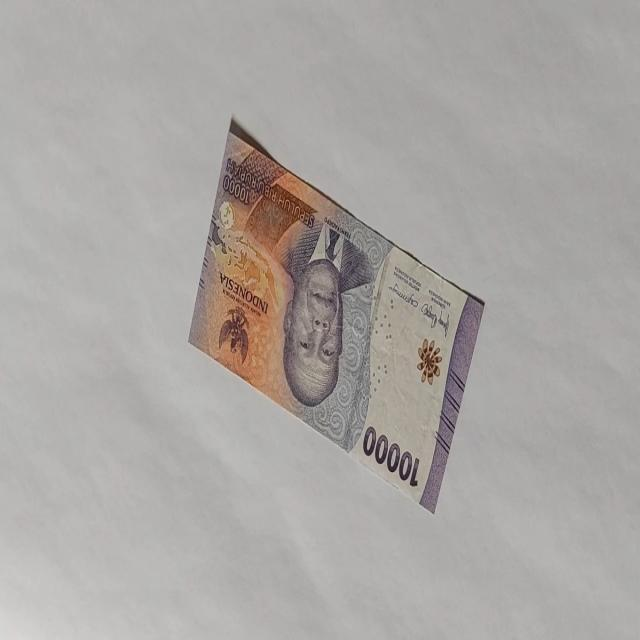sepuluh ribu rupiah: (187, 117, 486, 516), (275, 214, 373, 410), (362, 424, 421, 488)
